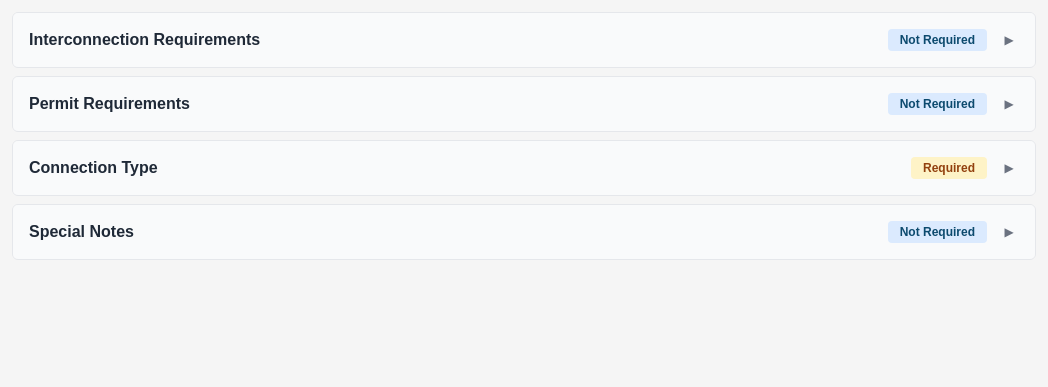
Test: DetailAccordion Component › Expand/Collapse Functionality › allows multiple items to be expanded simultaneously
The image size is (1048, 387).
Click the button with test id "accordion-header-interconnection" at coordinates (145, 40), box [13,13,1035,67]
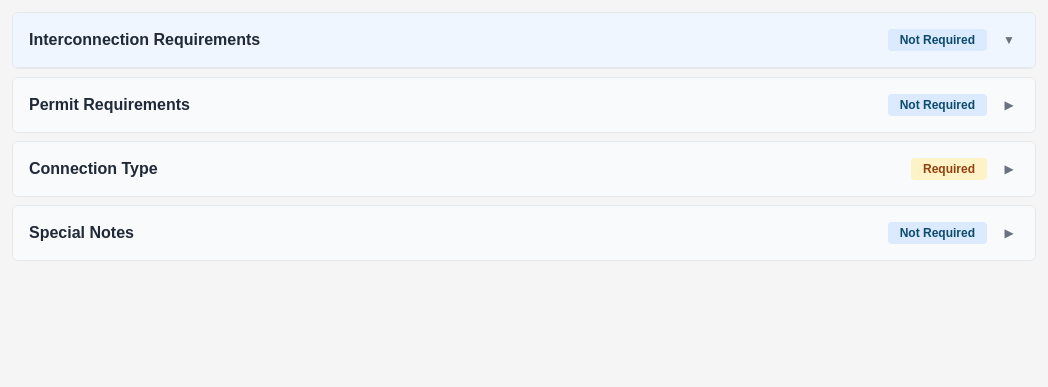
Click the button with test id "accordion-header-permit" at coordinates (109, 104), box [13,78,1035,132]
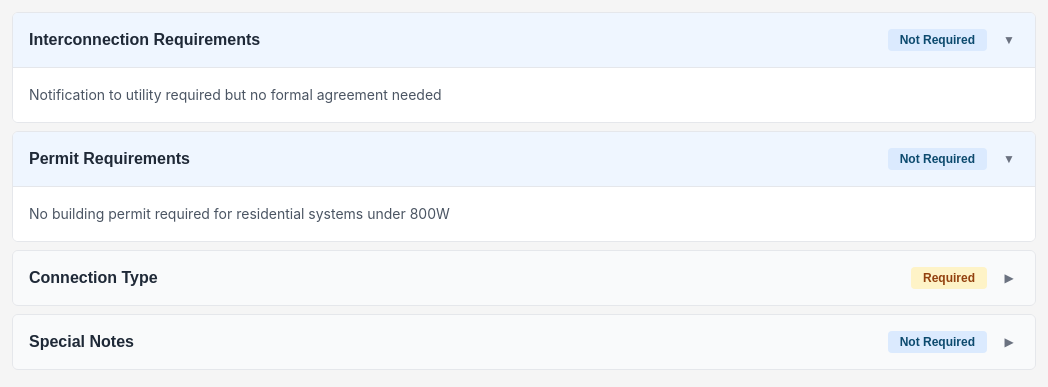
Result: the text "Notification to utility required but no formal agreement needed" is shown at [29,86,442,103]
Result: the text "No building permit required for residential systems under 800W" is shown at [29,205,450,222]
